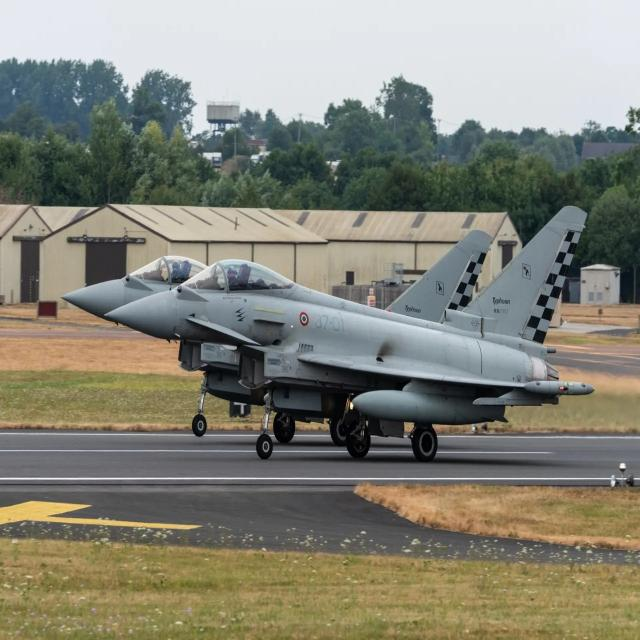MIL_Plane: (104, 205, 596, 461), (60, 229, 493, 446)
